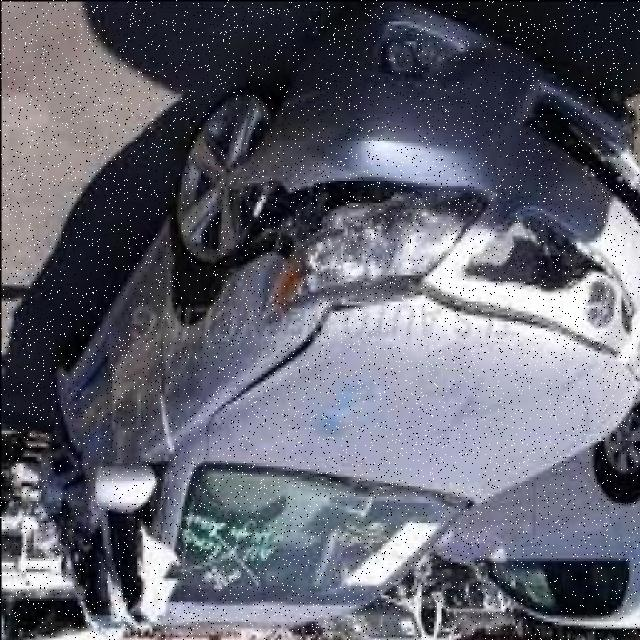damage: (198, 278, 610, 437), (221, 85, 496, 286), (455, 199, 632, 331)
